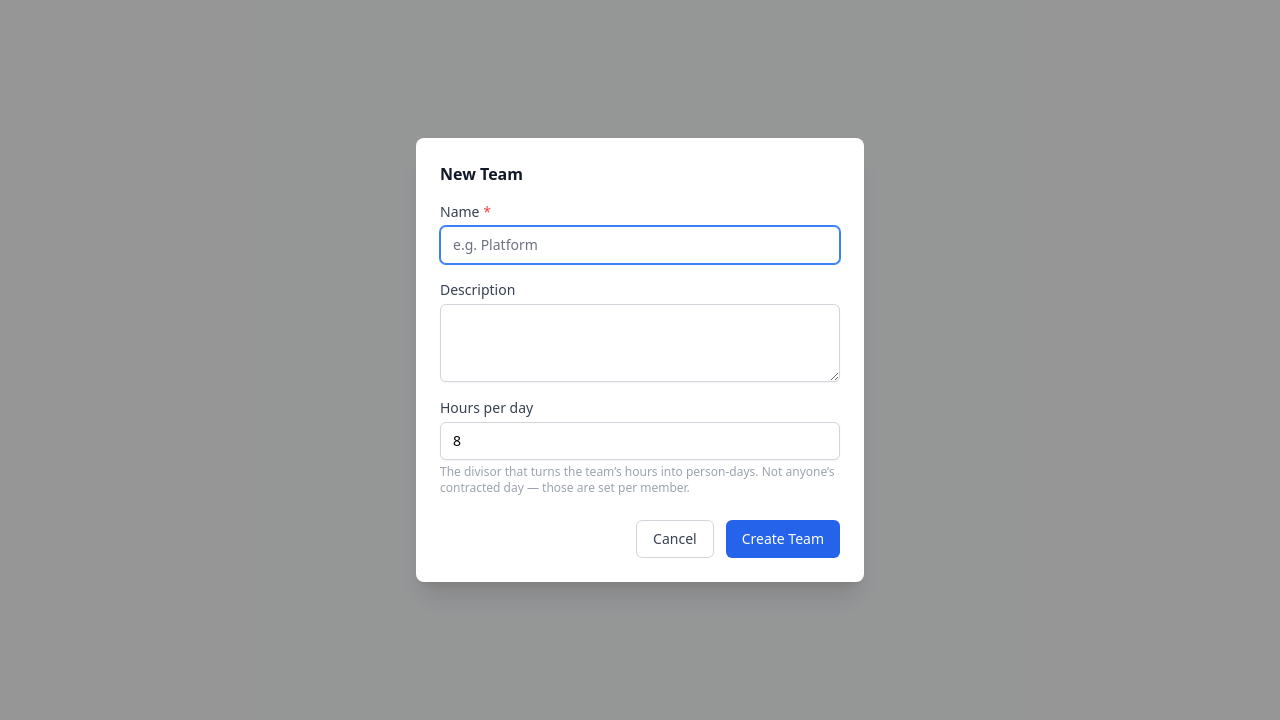
Scenario: CreateTeamModal › reports the team limit in the words the server used
Type "Platform" into the field labelled "Name *".
click(640, 245); type("Platform")  # box [440,226,840,264]
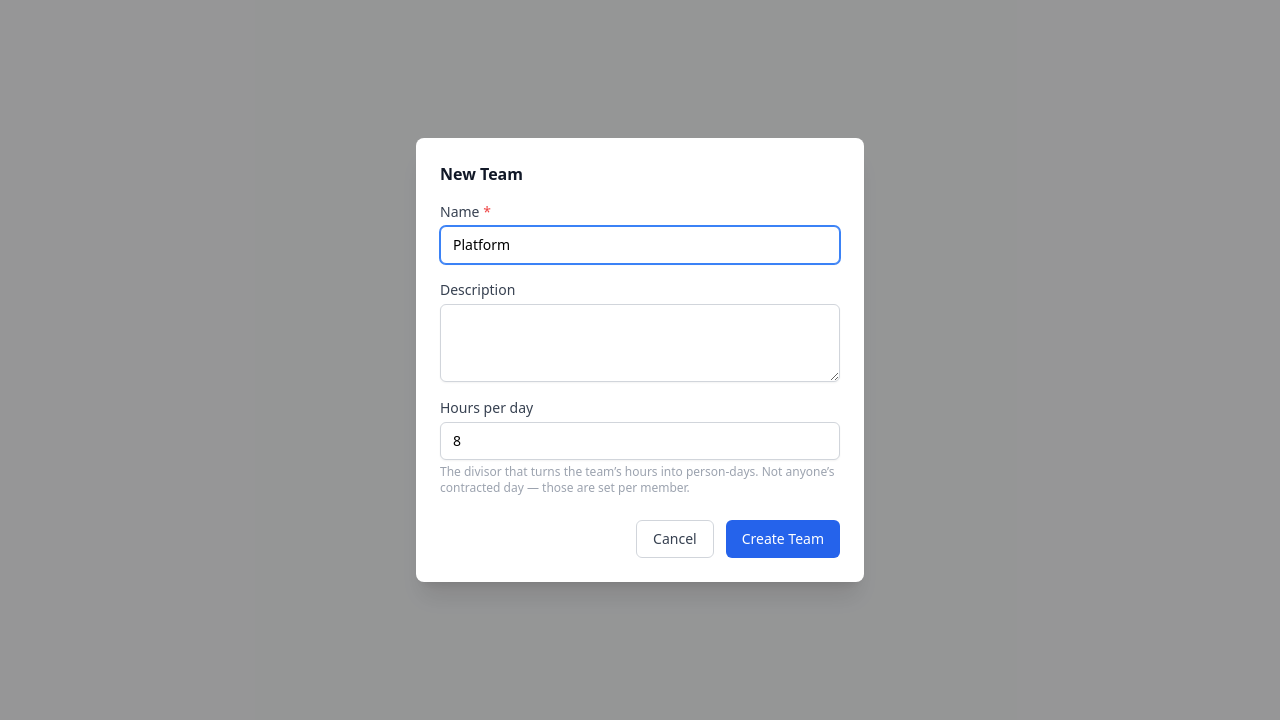
Click the button "Create Team".
click(783, 539)  # box [726,520,840,558]
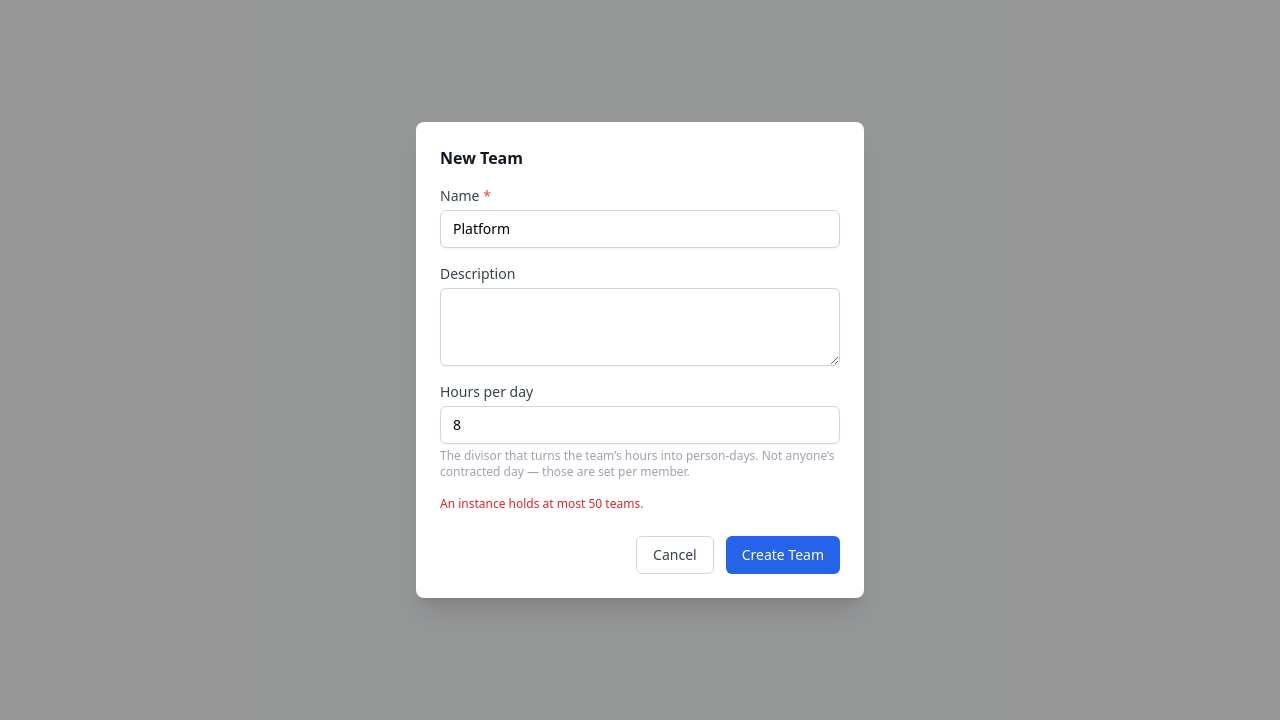
Now the message reads "An instance holds at most 50 teams.", box [440,495,643,512]
